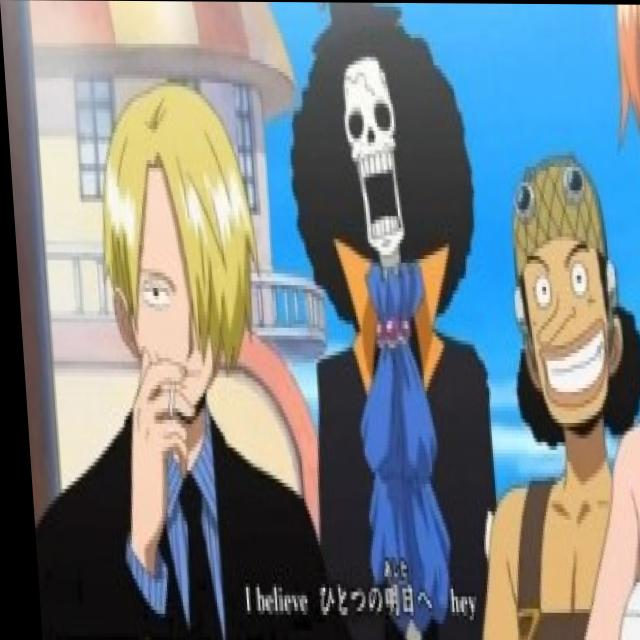Blook: (282, 2, 488, 342)
Sangdi: (87, 79, 264, 425)
Usopp: (494, 162, 625, 440)
